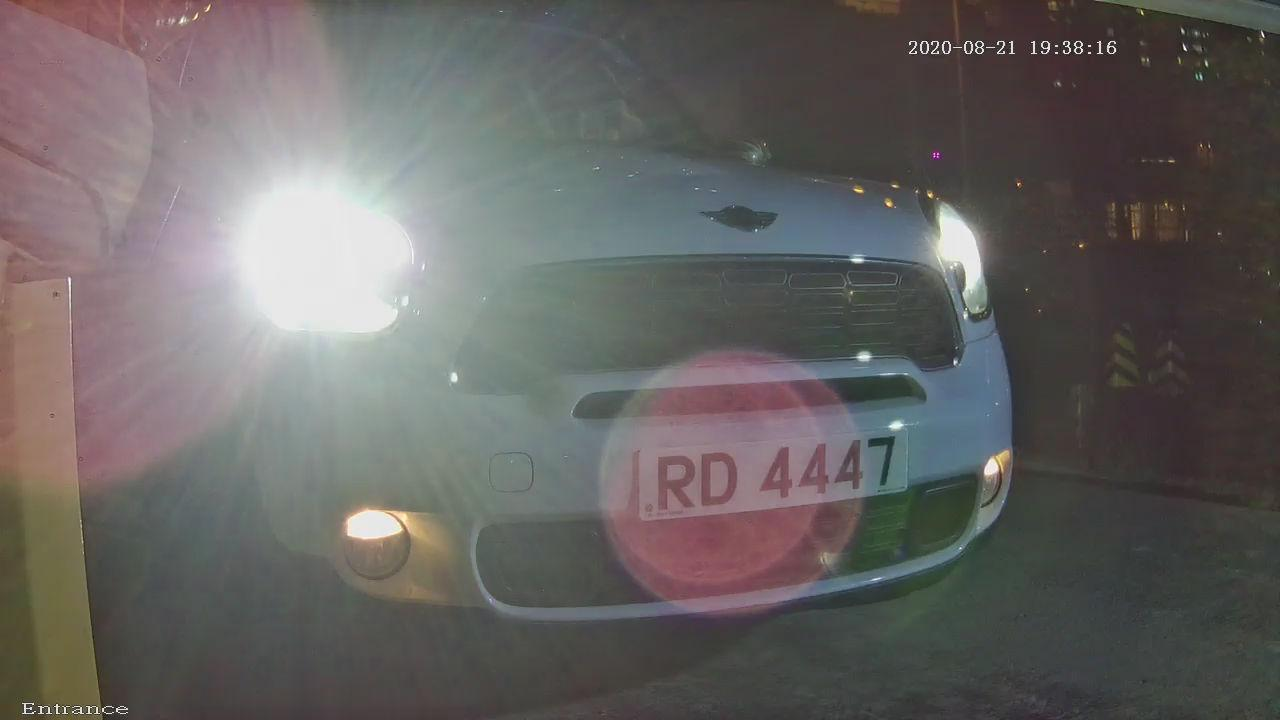Car: (6, 10, 1166, 708)
License Plate: (555, 398, 954, 568)
